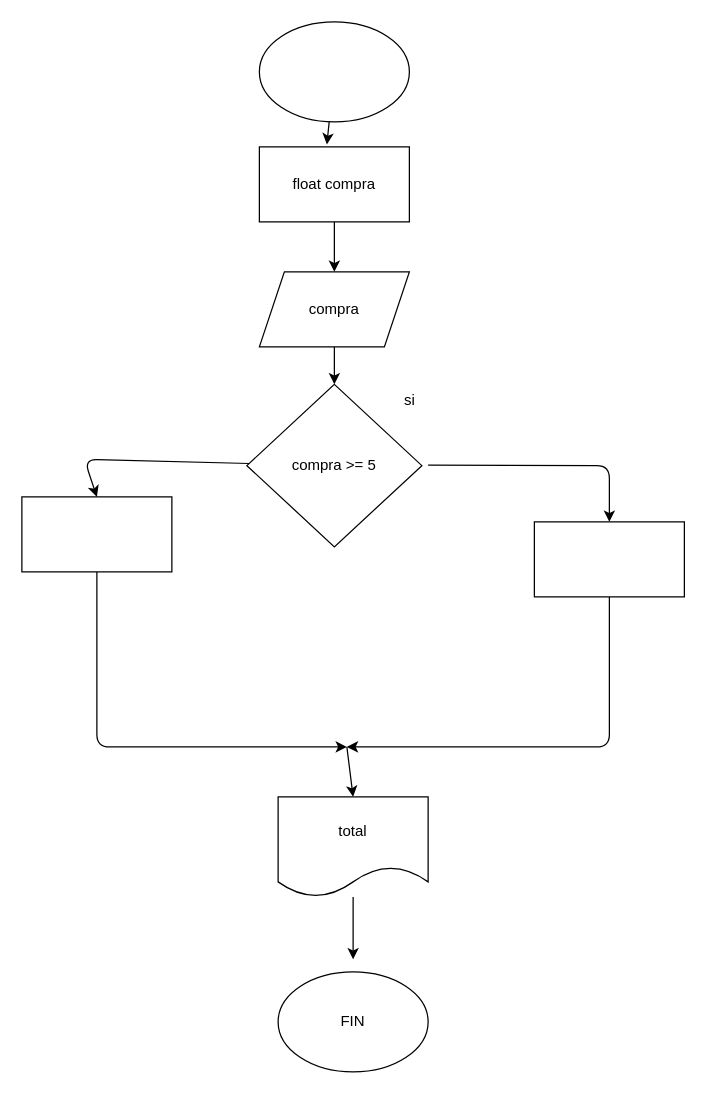
The diagram is 706 pixels wide and 1094 high, and some of its shapes have lost their labels. The centre of each missing label's shape, as x and y in pixels:
inicio: pixel 333 71
llanta = 700 total = compra * llanta: pixel 608 559
llanta = 800 total = llanta * compra: pixel 96 534
